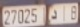0: (17, 9, 24, 24)
2: (24, 8, 31, 24), (4, 10, 11, 25)
5: (31, 8, 38, 23)
7: (11, 9, 17, 25)
8: (70, 5, 77, 20)
d: (51, 8, 59, 20)
